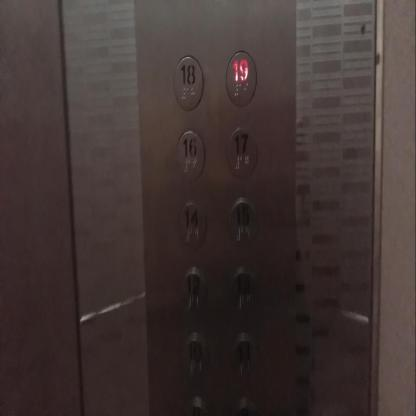12: (178, 266, 208, 320)
14: (177, 200, 207, 254)
15: (226, 198, 256, 252)
16: (174, 126, 205, 184)
17: (226, 124, 258, 182)
18: (172, 53, 205, 112)
19: (224, 49, 258, 108)
blur: (227, 269, 255, 320), (182, 333, 207, 380), (231, 335, 256, 381)
